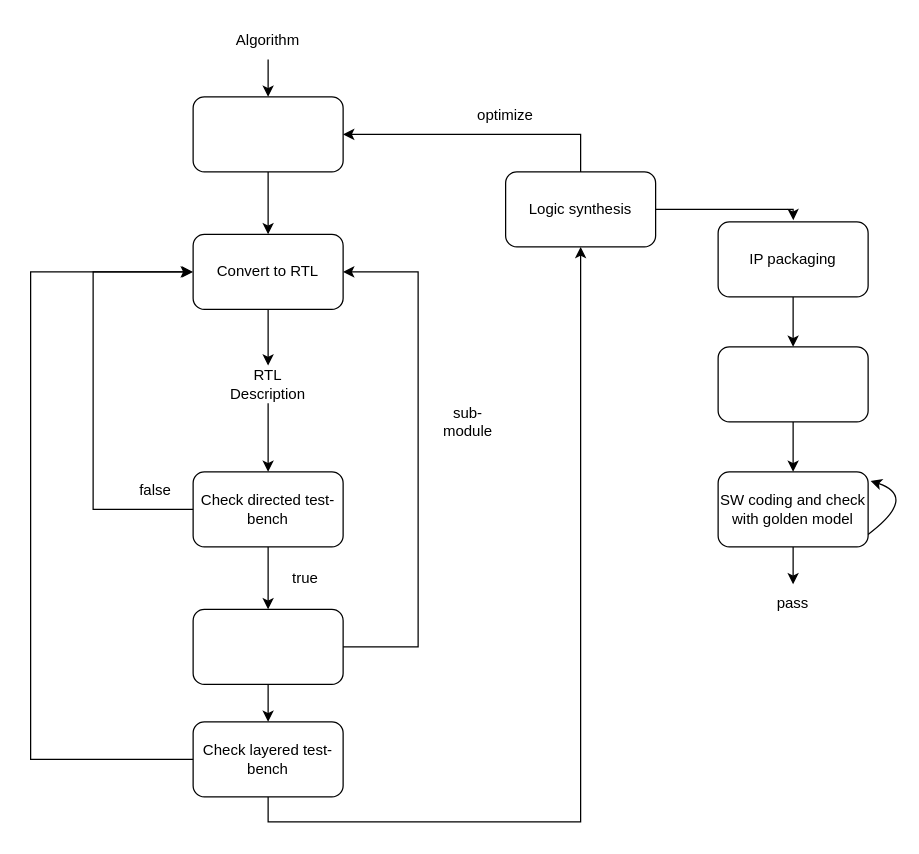
Some shapes in this 919 by 854 pixel diagram are drawn without their labels. Each missing label, with the centre of its shape:
Block design and generate bitstream: the point at 792,384
Is top module ?: the point at 267,646
Specification: the point at 267,134
